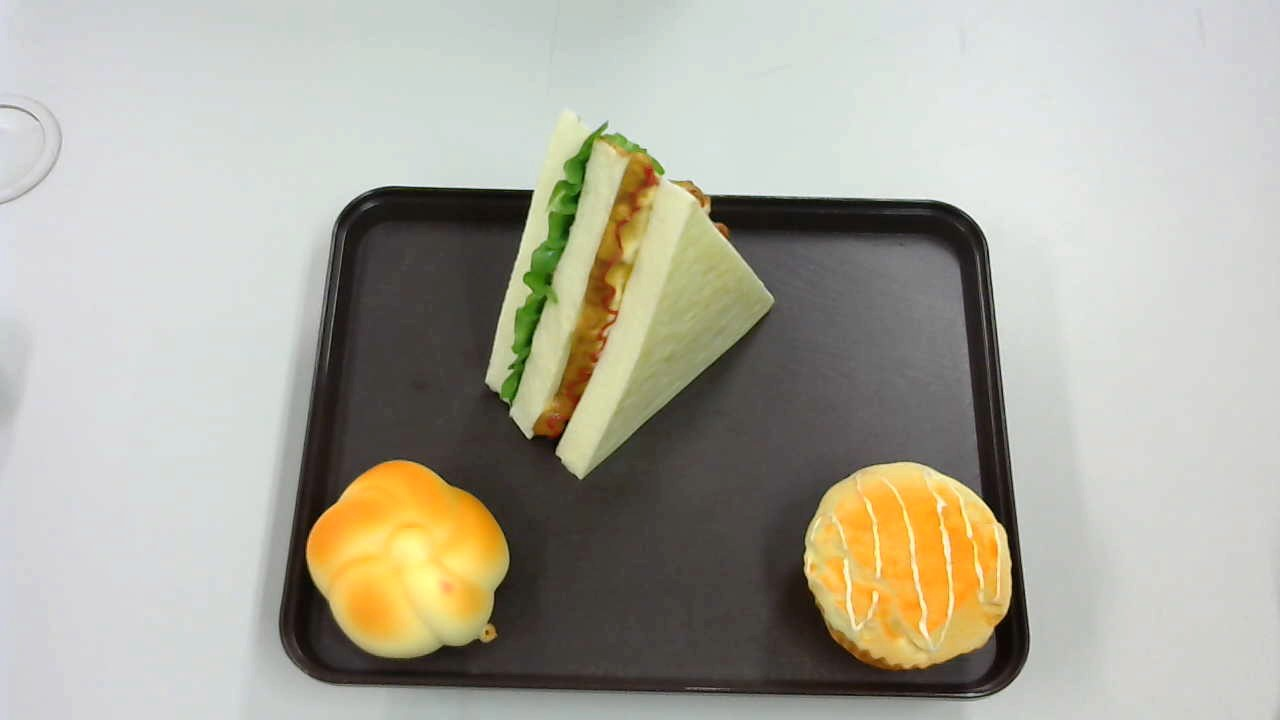cupcake: (802, 462, 1012, 671)
sandwich: (485, 107, 775, 481)
twist bread: (305, 459, 510, 657)
